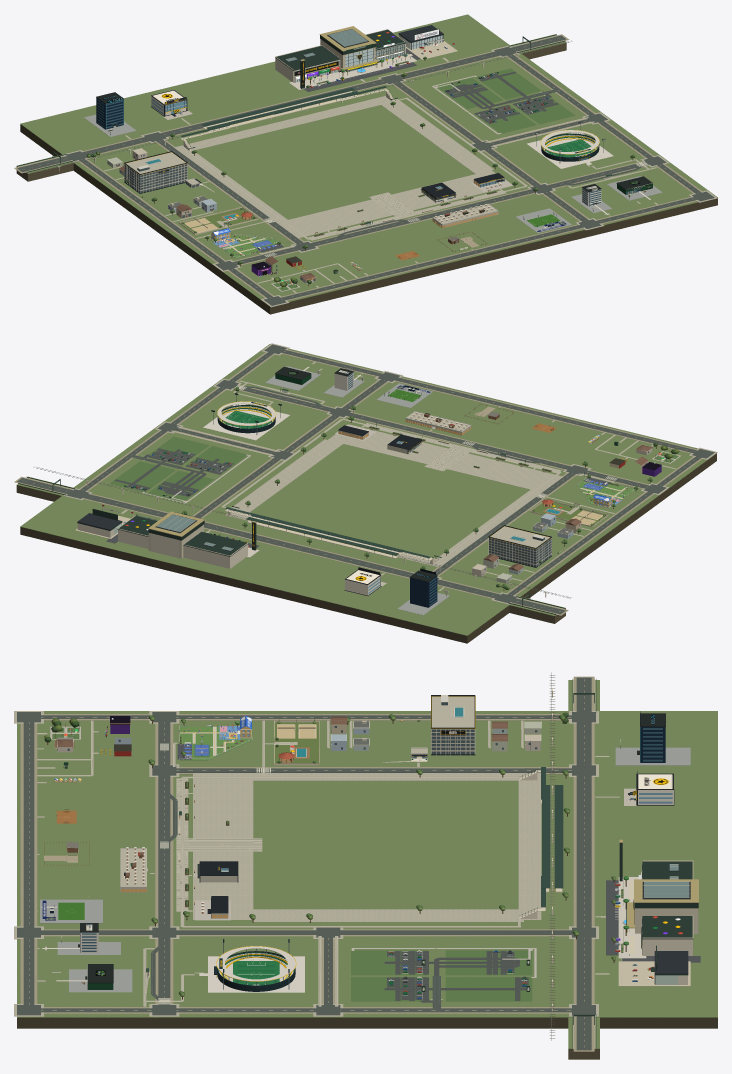
The model's file is bairro-20261123-v1.glb.
3 renders of one model, top to bottom at view 1: azimuth 30°, elevation 25°; view 2: azimuth 150°, elevation 25°; view 3: azimuth 270°, elevation 25°, orthographic. The views are drawn at different scales.
Visible parts, largest first — view 1: vias-e-passeios, novas-pecas-de-arte, mockup-Shopping e Vadico, Metrô, mockup-Hotel, mockup-Arena Legends, estacionamento-etapa-1, mockup-Tidex, Casa Luca, estacionamento-etapa-3, estacionamento-etapa-2, Clube Recreio (+7 smaller); view 2: vias-e-passeios, novas-pecas-de-arte, mockup-Shopping e Vadico, Metrô, mockup-Arena Legends, mockup-Hotel, mockup-Tidex, estacionamento-etapa-1, estacionamento-etapa-3, estacionamento-etapa-2, Casa Luca, Clube Recreio (+6 smaller); view 3: vias-e-passeios, novas-pecas-de-arte, mockup-Shopping e Vadico, mockup-Arena Legends, Metrô, mockup-Hotel, estacionamento-etapa-1, mockup-Tidex, Casa Luca, estacionamento-etapa-3, estacionamento-etapa-2, Clube Recreio (+8 smaller).
Boxes of the visible parts, x1,y1,x2,y2 form: vias-e-passeios: [14, 14, 717, 314]; novas-pecas-de-arte: [16, 34, 717, 307]; mockup-Shopping e Vadico: [275, 25, 457, 91]; Metrô: [34, 40, 572, 172]; mockup-Hotel: [124, 151, 214, 202]; mockup-Arena Legends: [527, 121, 613, 168]; estacionamento-etapa-1: [432, 75, 502, 111]; mockup-Tidex: [84, 92, 136, 136]; Casa Luca: [210, 228, 283, 258]; estacionamento-etapa-3: [468, 101, 536, 134]; estacionamento-etapa-2: [475, 68, 543, 99]; Clube Recreio: [179, 207, 258, 234]; vias-e-passeios: [14, 344, 716, 643]; novas-pecas-de-arte: [16, 343, 717, 623]; mockup-Shopping e Vadico: [75, 504, 259, 568]; Metrô: [33, 467, 570, 598]; mockup-Arena Legends: [203, 393, 289, 440]; mockup-Hotel: [488, 525, 565, 567]; mockup-Tidex: [397, 568, 449, 615]; estacionamento-etapa-1: [142, 470, 220, 503]; estacionamento-etapa-3: [180, 446, 250, 477]; estacionamento-etapa-2: [109, 459, 175, 492]; Casa Luca: [577, 477, 635, 508]; Clube Recreio: [529, 499, 608, 527]; vias-e-passeios: [17, 676, 717, 1051]; novas-pecas-de-arte: [14, 679, 635, 1059]; mockup-Shopping e Vadico: [606, 839, 700, 986]; mockup-Arena Legends: [195, 939, 304, 992]; Metrô: [521, 672, 569, 1040]; mockup-Hotel: [382, 695, 475, 762]; estacionamento-etapa-1: [435, 948, 536, 977]; mockup-Tidex: [615, 711, 690, 765]; Casa Luca: [177, 715, 252, 760]; estacionamento-etapa-3: [351, 948, 439, 975]; estacionamento-etapa-2: [441, 976, 535, 1001]; Clube Recreio: [274, 719, 319, 765].
Size of the model in its own units: 590 by 37.64 by 468.
289 materials, 107 textured.
